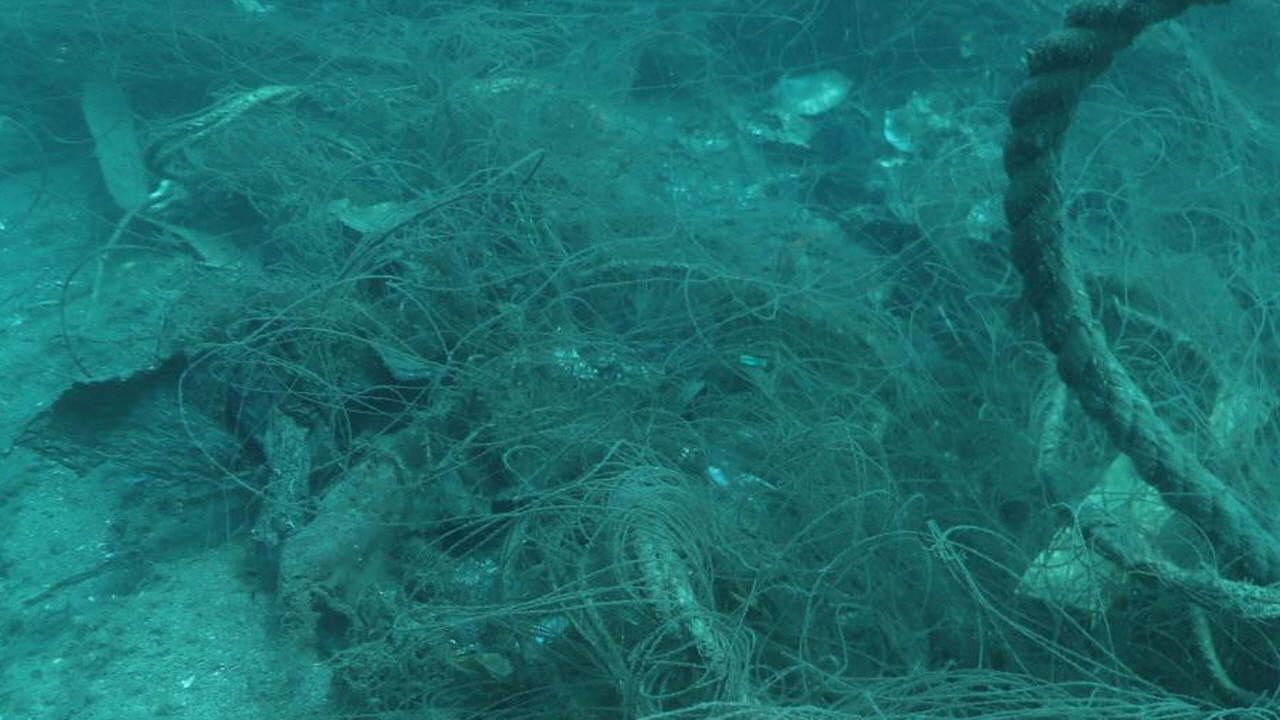bundle of ropes: (998, 0, 1280, 707)
